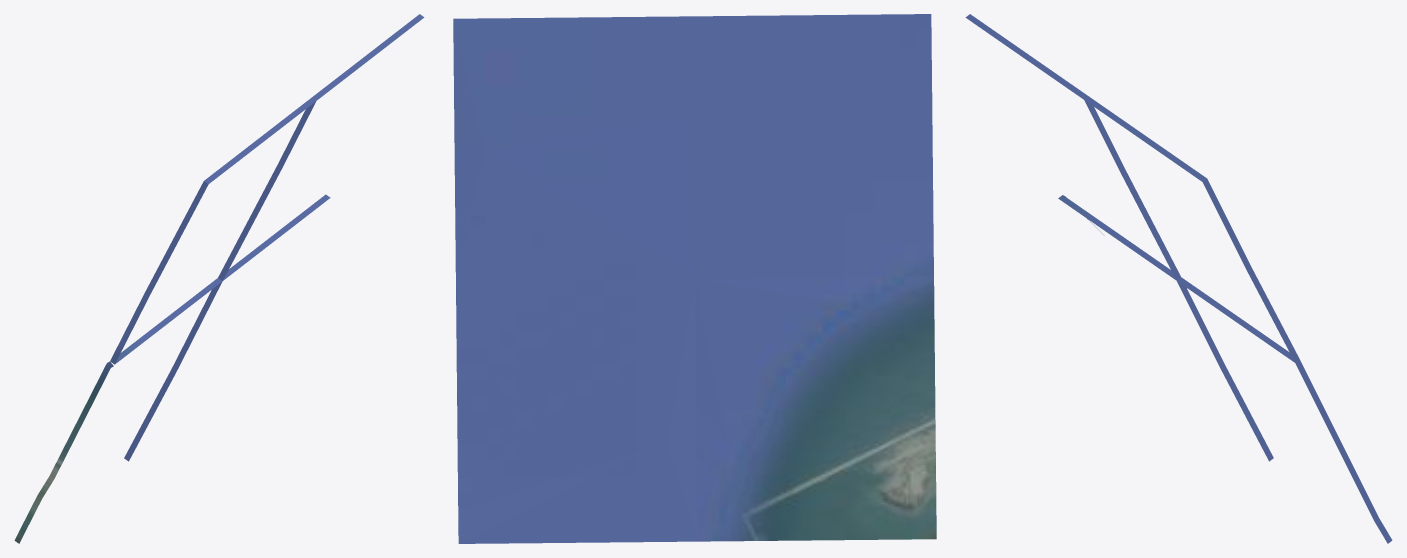
3 renders of one model, left to right at view 1: azimuth 30°, elevation 25°; view 2: azimuth 150°, elevation 25°; view 3: azimuth 270°, elevation 25°, orthographic. The views are drawn at different scales.
Size of the model in its own units: 2460 by 2209 by 2076.
Materials: 1 (1 with a texture image).
